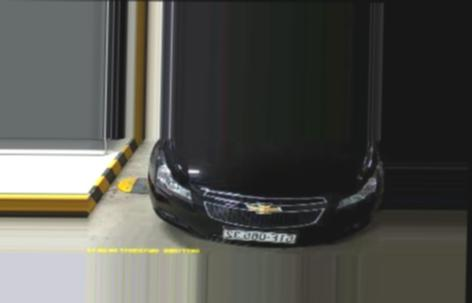License_Plate: (224, 228, 298, 246)
